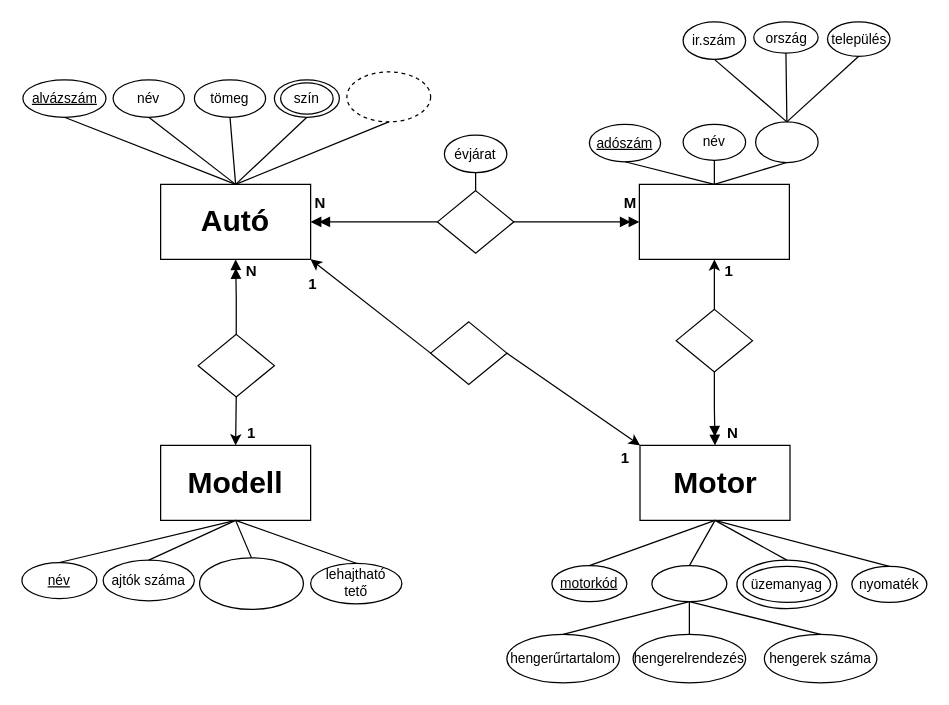
The diagram is 949 pixels wide and 705 high, and some of its shapes have lost their labels. The centre of each missing label's shape, as x and y in pixels:
alaprajz: point 689,583
csomagtartó kapacitás: point 250,583
cím: point 786,141
gyártja: point 475,221
Gyártó: point 713,221
tartalmaz: point 468,352
tartozik: point 713,340
teljesítmény: point 388,96
típusa: point 235,365
